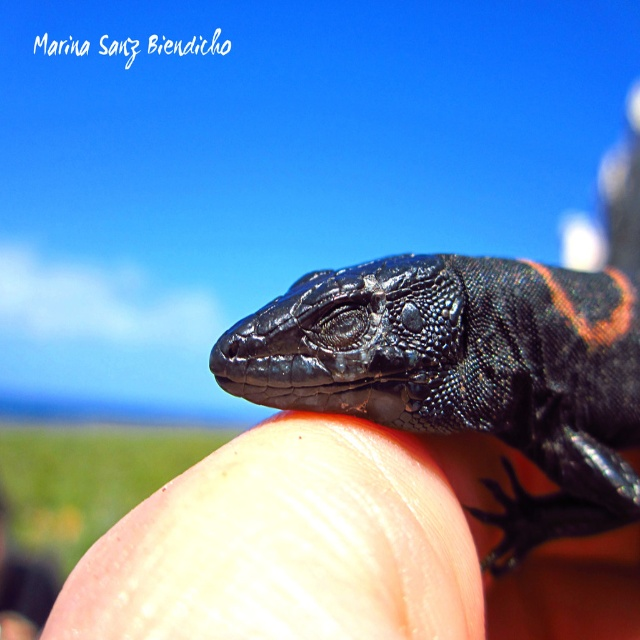Lizard: (176, 259, 640, 543)
